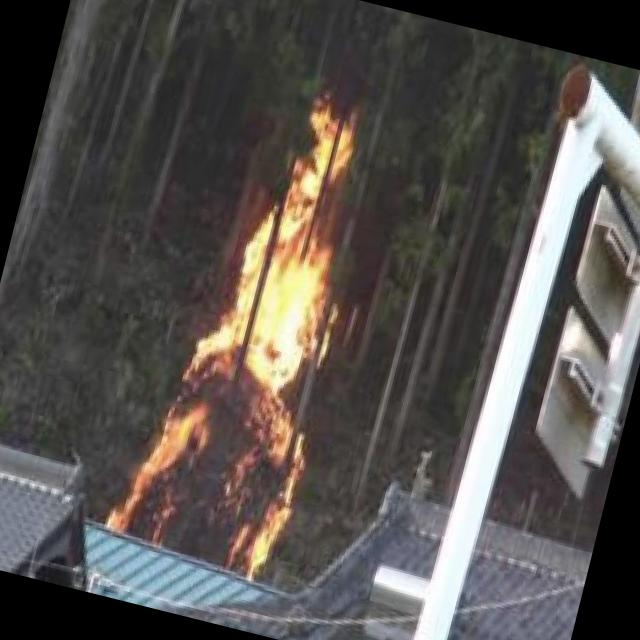Fire: (109, 76, 392, 580)
